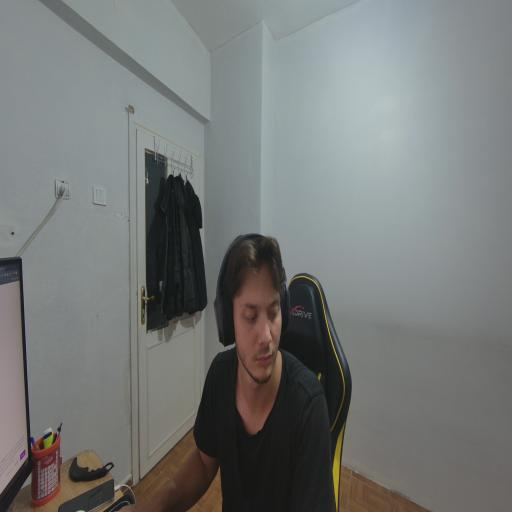cuma-face-v2: (222, 226, 302, 398), (227, 236, 294, 377)
